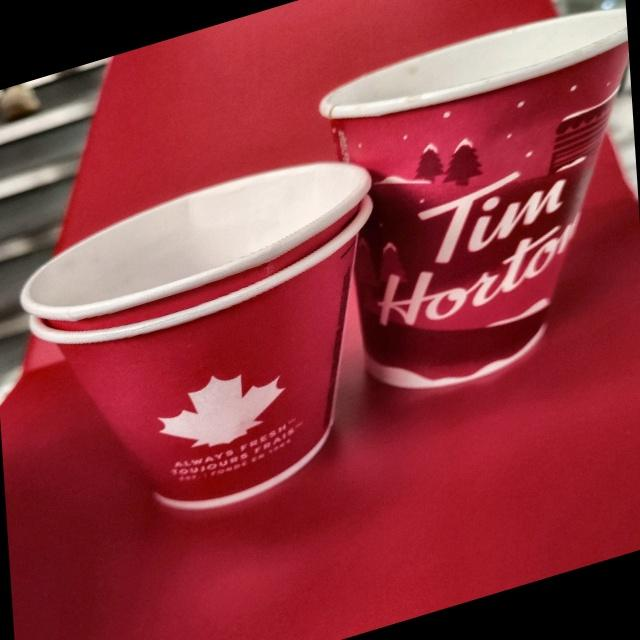Timmies: (20, 190, 408, 567), (318, 0, 640, 424)
